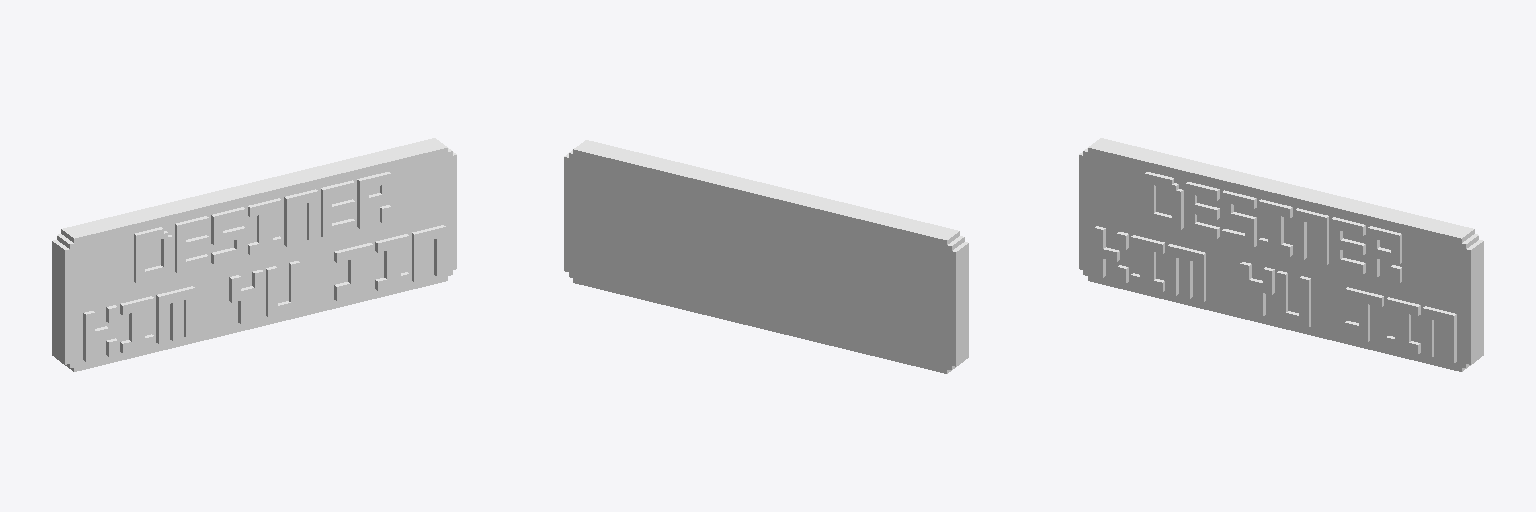
Rendered from Credit_Inform_KYJ.obj.
The picture shows the model from 3 angles: view 1: azimuth 30°, elevation 25°; view 2: azimuth 150°, elevation 25°; view 3: azimuth 330°, elevation 25°; orthographic projection.
Size of the model in its own units: 86 by 28 by 6.